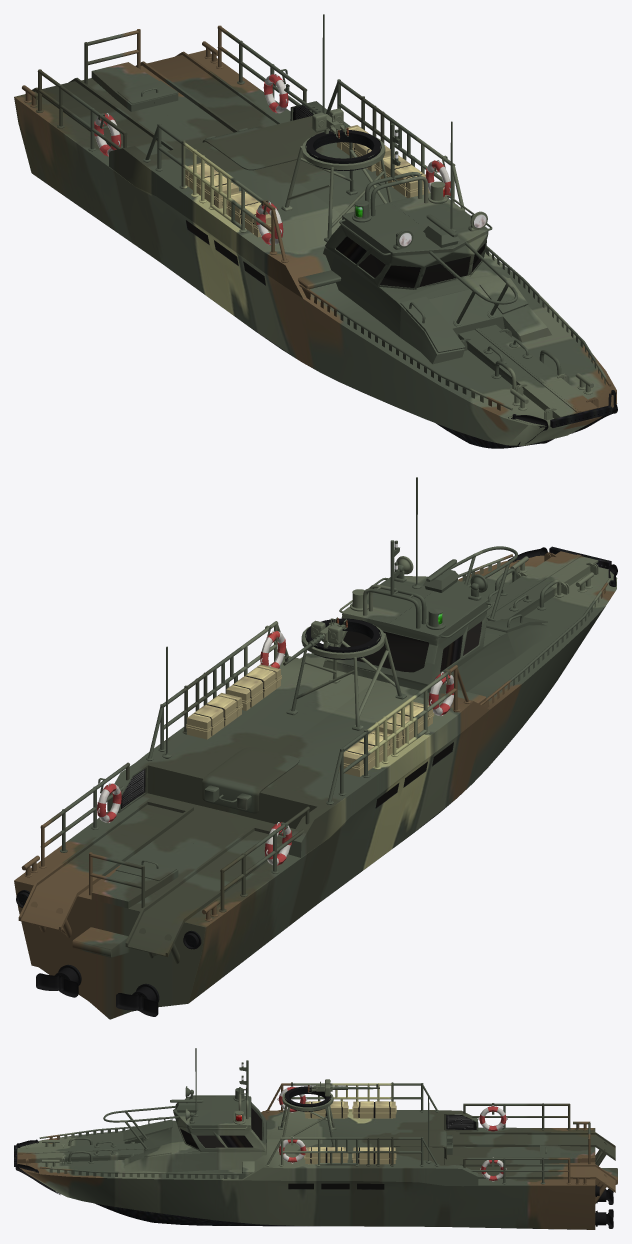
Rendered from stridsbat_90h.glb.
3 views of the same model, one above another, from view 1: azimuth 30°, elevation 25°; view 2: azimuth 150°, elevation 25°; view 3: azimuth 270°, elevation 25° (orthographic). The views are drawn at different scales.
Parts seen in each view (by area): view 1: Object_15, Object_12, Object_2, Object_11, Object_16, Object_19, Object_3, Object_24, Object_26, Object_14, Object_25, Object_23; view 2: Object_15, Object_12, Object_2, Object_16, Object_11, Object_19, Object_24, Object_3, Object_26, Object_14, Object_25; view 3: Object_15, Object_12, Object_11, Object_2, Object_24, Object_19, Object_16, Object_3, Object_25, Object_26, Object_14, Object_21.
Part boxes in pixels (x1=…): Object_15: x1=14, y1=25, x2=617, y2=445; Object_12: x1=202, y1=14, x2=597, y2=418; Object_2: x1=324, y1=193, x2=497, y2=299; Object_11: x1=98, y1=69, x2=611, y2=419; Object_16: x1=22, y1=25, x2=598, y2=420; Object_19: x1=185, y1=125, x2=429, y2=237; Object_3: x1=186, y1=220, x2=485, y2=287; Object_24: x1=54, y1=130, x2=617, y2=448; Object_26: x1=94, y1=74, x2=450, y2=244; Object_14: x1=191, y1=121, x2=487, y2=247; Object_25: x1=95, y1=74, x2=450, y2=245; Object_23: x1=550, y1=405, x2=612, y2=427; Object_15: x1=14, y1=540, x2=617, y2=1019; Object_12: x1=162, y1=546, x2=598, y2=813; Object_2: x1=325, y1=576, x2=499, y2=685; Object_16: x1=21, y1=552, x2=598, y2=963; Object_11: x1=98, y1=553, x2=611, y2=868; Object_19: x1=186, y1=664, x2=434, y2=776; Object_24: x1=16, y1=547, x2=617, y2=1011; Object_3: x1=340, y1=621, x2=481, y2=807; Object_26: x1=97, y1=631, x2=453, y2=865; Object_14: x1=139, y1=477, x2=487, y2=958; Object_25: x1=98, y1=630, x2=453, y2=864; Object_15: x1=17, y1=1062, x2=617, y2=1229; Object_12: x1=17, y1=1081, x2=452, y2=1173; Object_11: x1=27, y1=1082, x2=546, y2=1179; Object_2: x1=173, y1=1096, x2=265, y2=1152; Object_24: x1=15, y1=1086, x2=613, y2=1229; Object_19: x1=304, y1=1101, x2=396, y2=1164; Object_16: x1=26, y1=1080, x2=607, y2=1203; Object_3: x1=180, y1=1108, x2=384, y2=1189; Object_25: x1=277, y1=1086, x2=507, y2=1181; Object_26: x1=278, y1=1086, x2=506, y2=1180; Object_14: x1=185, y1=1048, x2=607, y2=1166; Object_21: x1=446, y1=1114, x2=476, y2=1129.
Size of the model in its own units: 3.82 by 5.62 by 16.62.
Materials: 12 (12 with a texture image).
